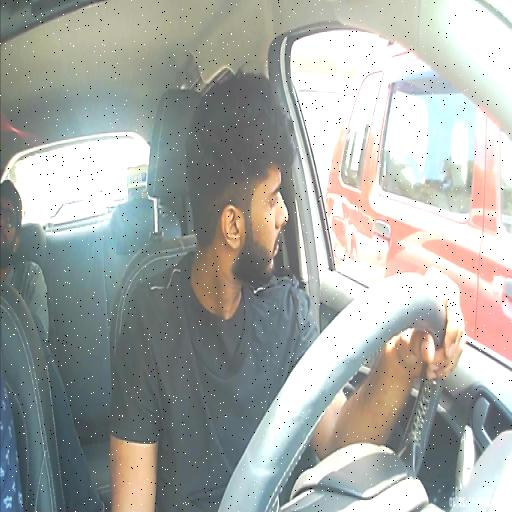turning: (147, 72, 468, 512)
